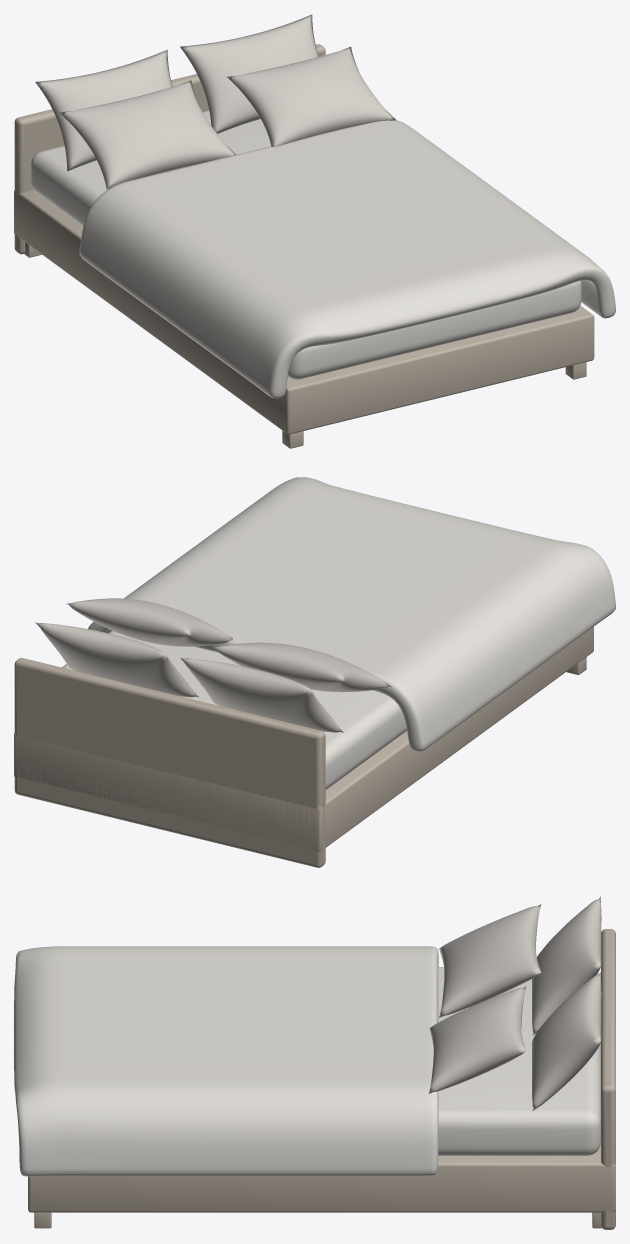
File: bed.glb
The picture shows the model from 3 angles, top to bottom: view 1: azimuth 30°, elevation 25°; view 2: azimuth 150°, elevation 25°; view 3: azimuth 270°, elevation 25°; orthographic projection. The views are drawn at different scales.
Visible parts, largest first — view 1: duvet, frame, mattress, pillow_left, pillow_right, pillow_back_right, pillow_back_left, headboard; view 2: duvet, headboard, frame, mattress, pillow_back_left, pillow_back_right, pillow_right, pillow_left; view 3: duvet, frame, mattress, pillow_left, pillow_right, pillow_back_right, pillow_back_left, headboard.
Part boxes in pixels (bbox=[...]): duvet: bbox=[79, 120, 615, 398]; frame: bbox=[14, 190, 594, 448]; mattress: bbox=[31, 110, 581, 379]; pillow_left: bbox=[59, 80, 235, 189]; pillow_right: bbox=[227, 46, 396, 147]; pillow_back_right: bbox=[180, 14, 318, 133]; pillow_back_left: bbox=[35, 49, 172, 171]; headboard: bbox=[14, 44, 325, 254]; duvet: bbox=[88, 477, 615, 751]; headboard: bbox=[14, 658, 325, 867]; frame: bbox=[14, 626, 593, 851]; mattress: bbox=[62, 630, 406, 789]; pillow_back_left: bbox=[180, 658, 343, 732]; pillow_back_right: bbox=[35, 622, 198, 697]; pillow_right: bbox=[66, 598, 232, 646]; pillow_left: bbox=[212, 642, 391, 692]; duvet: bbox=[14, 946, 438, 1176]; frame: bbox=[28, 1143, 615, 1228]; mattress: bbox=[438, 967, 600, 1155]; pillow_left: bbox=[439, 904, 541, 1017]; pillow_right: bbox=[428, 986, 526, 1093]; pillow_back_right: bbox=[532, 972, 601, 1111]; pillow_back_left: bbox=[532, 896, 601, 1035]; headboard: bbox=[601, 929, 615, 1229].
Bounding box in the file's own units: 1.72 × 0.814 × 2.43.
